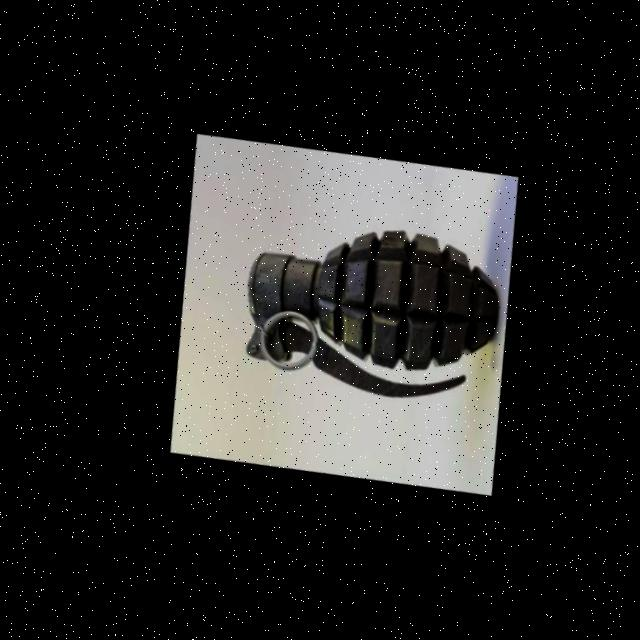grenade: (207, 178, 524, 444)
